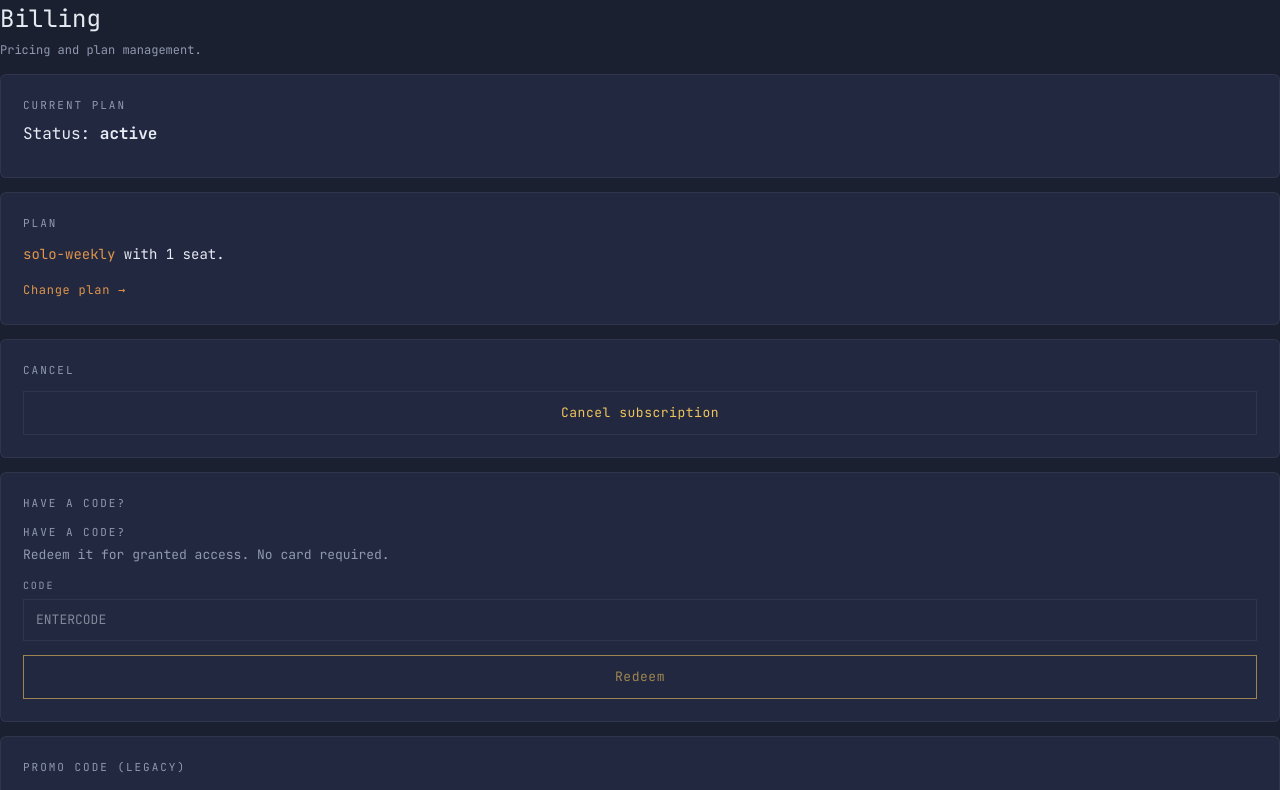
Billing › opens the original confirm modal (not cascade) for solo admins with no members
Click the button "Cancel subscription": (640, 413) [23,391,1257,435]
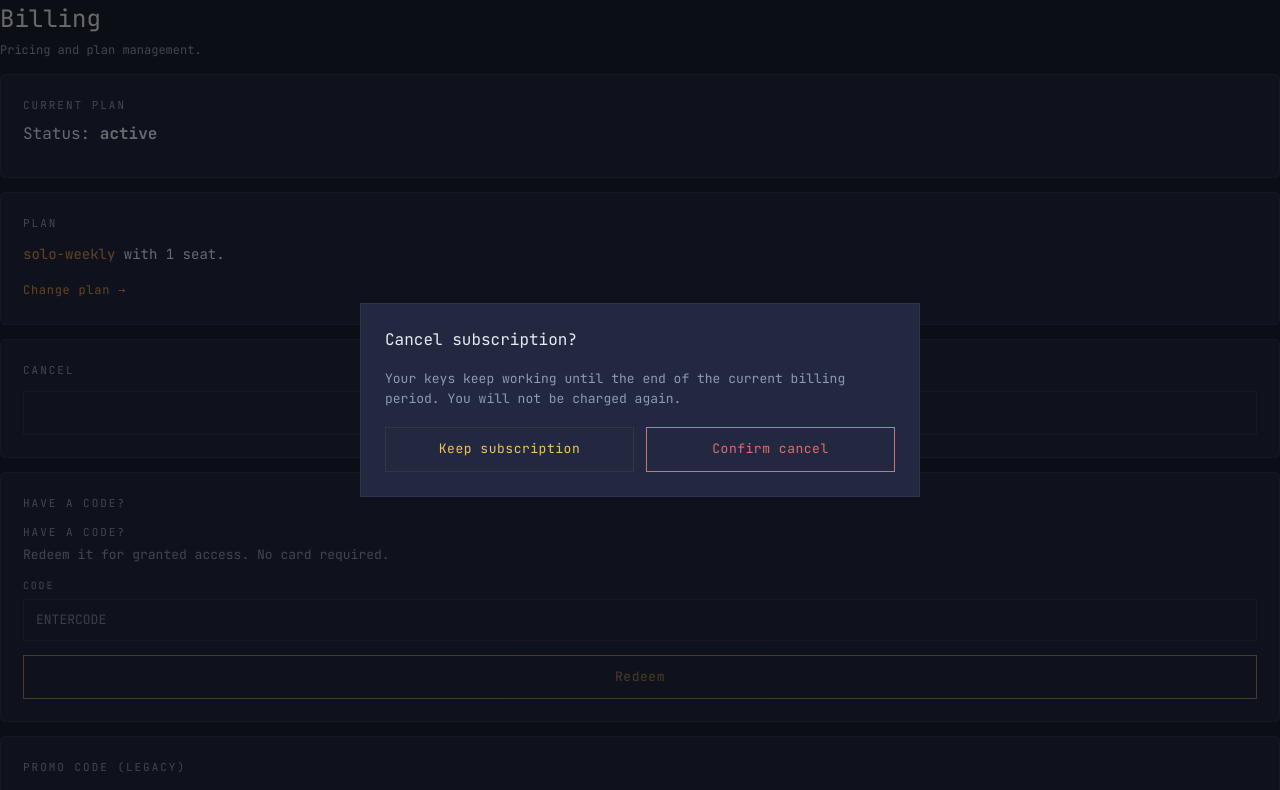
Check: the text "keys keep working" is shown, box [385,370,845,407]
